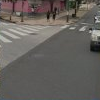crosswalk: (0, 24, 47, 48), (67, 23, 93, 33)
